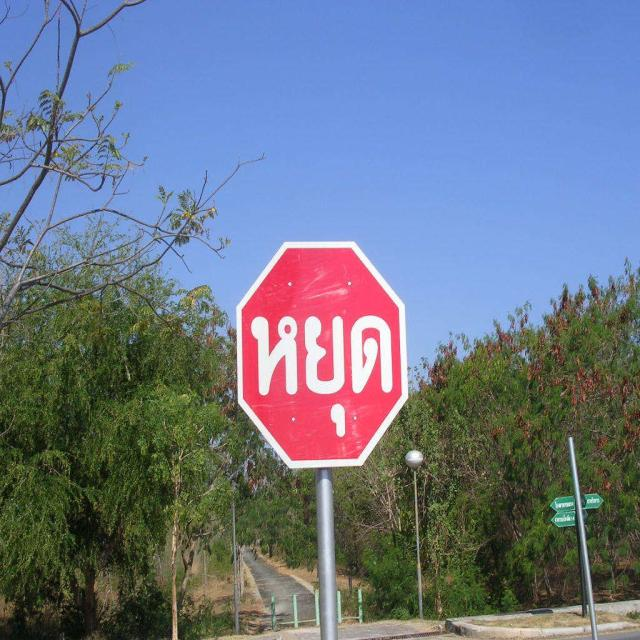Stop-sign: (235, 239, 408, 469)
